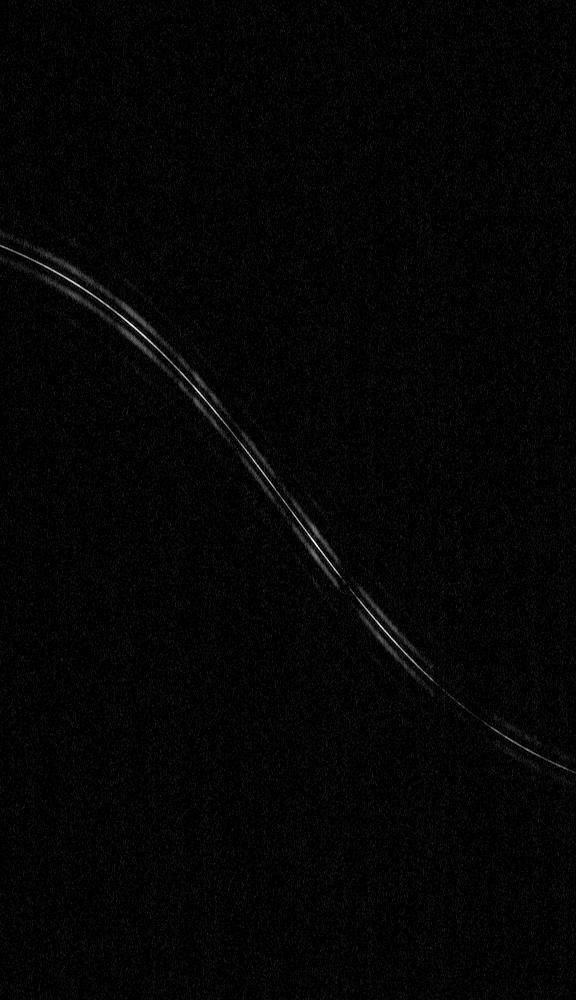signal: (0, 0, 575, 999)
